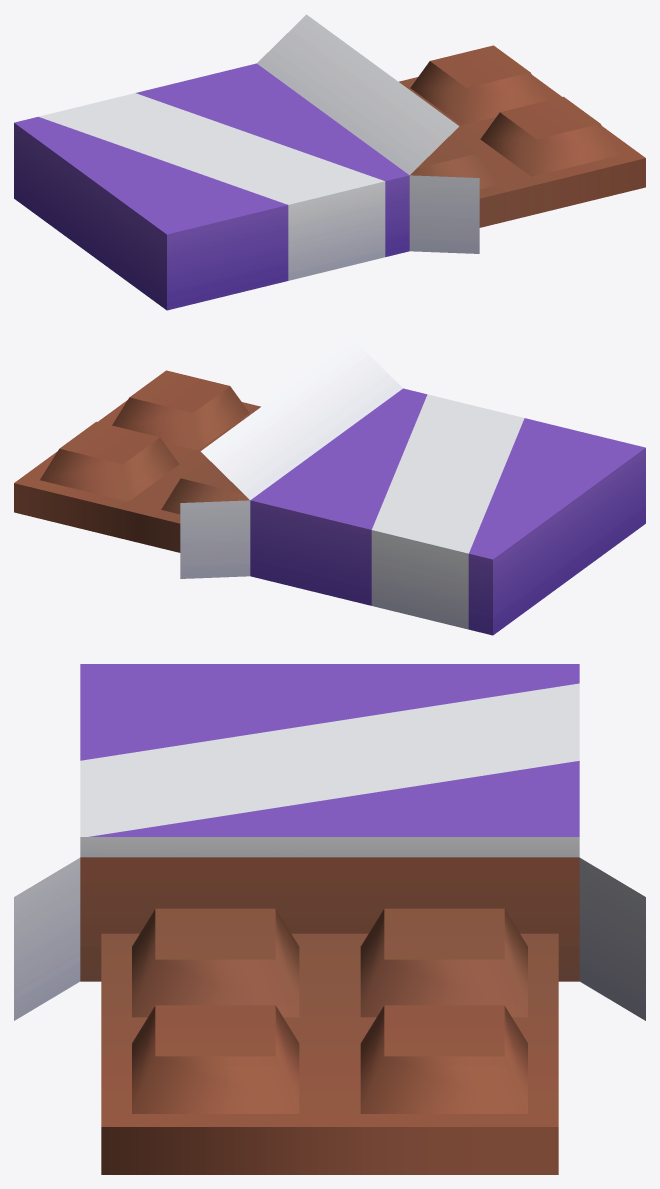
File: chocolate-wrapper.glb
3 views of the same model, one above another, from view 1: azimuth 30°, elevation 25°; view 2: azimuth 150°, elevation 25°; view 3: azimuth 270°, elevation 25° (orthographic). The views are drawn at different scales.
Parts seen in each view (by area): view 1: chocolate-wrapper; view 2: chocolate-wrapper; view 3: chocolate-wrapper.
Part boxes in pixels (x1,y1,x2,y2): chocolate-wrapper: (14,14,645,310); chocolate-wrapper: (14,339,645,635); chocolate-wrapper: (14,664,645,1174).
Size of the model in its own units: 0.2924 by 0.0649 by 0.202.
1 material, 1 textured.
